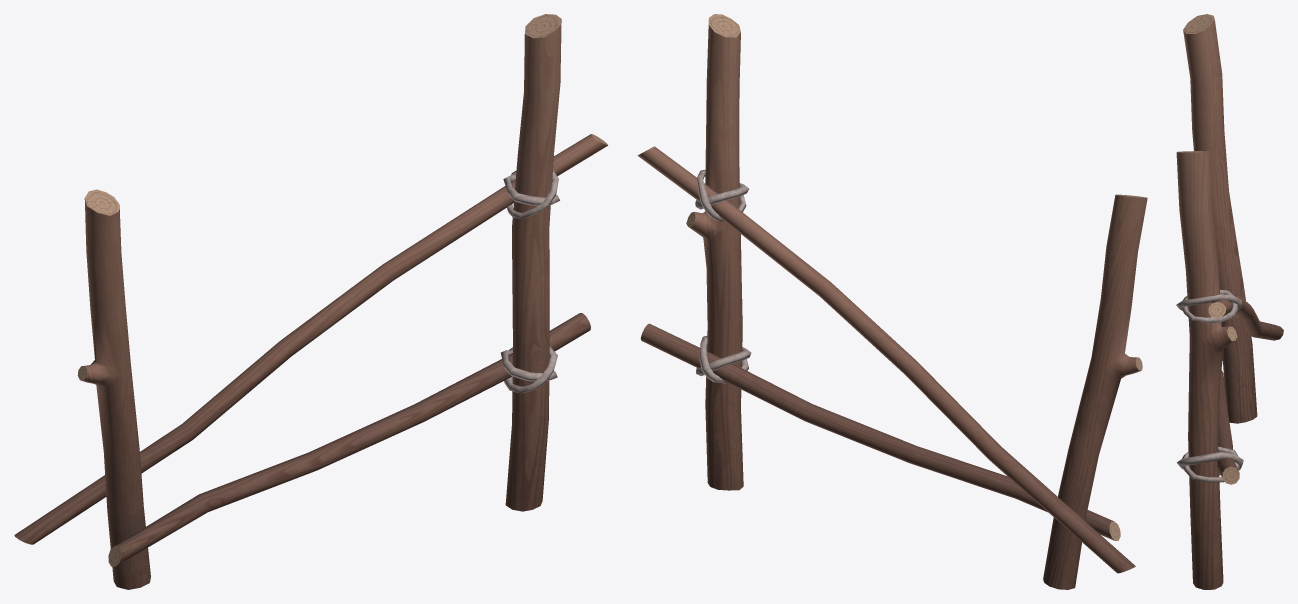
3 views of the same model, side by side, from view 1: azimuth 30°, elevation 25°; view 2: azimuth 150°, elevation 25°; view 3: azimuth 270°, elevation 25° (orthographic). The views are drawn at different scales.
Parts seen in each view (by area): view 1: submesh_0; view 2: submesh_0; view 3: submesh_0.
Boxes of the visible parts, box(x1,y1,x2,y2) form: submesh_0: box(14, 14, 608, 589); submesh_0: box(637, 14, 1147, 589); submesh_0: box(1176, 14, 1283, 589).
Size of the model in its own units: 2.13 by 1.78 by 0.3934.
Materials: 1 (1 with a texture image).
